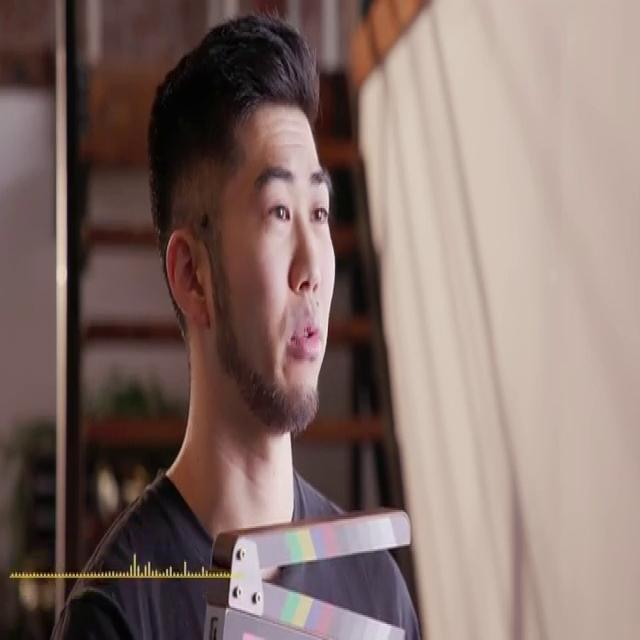Clapperboard: (200, 512, 413, 638)
